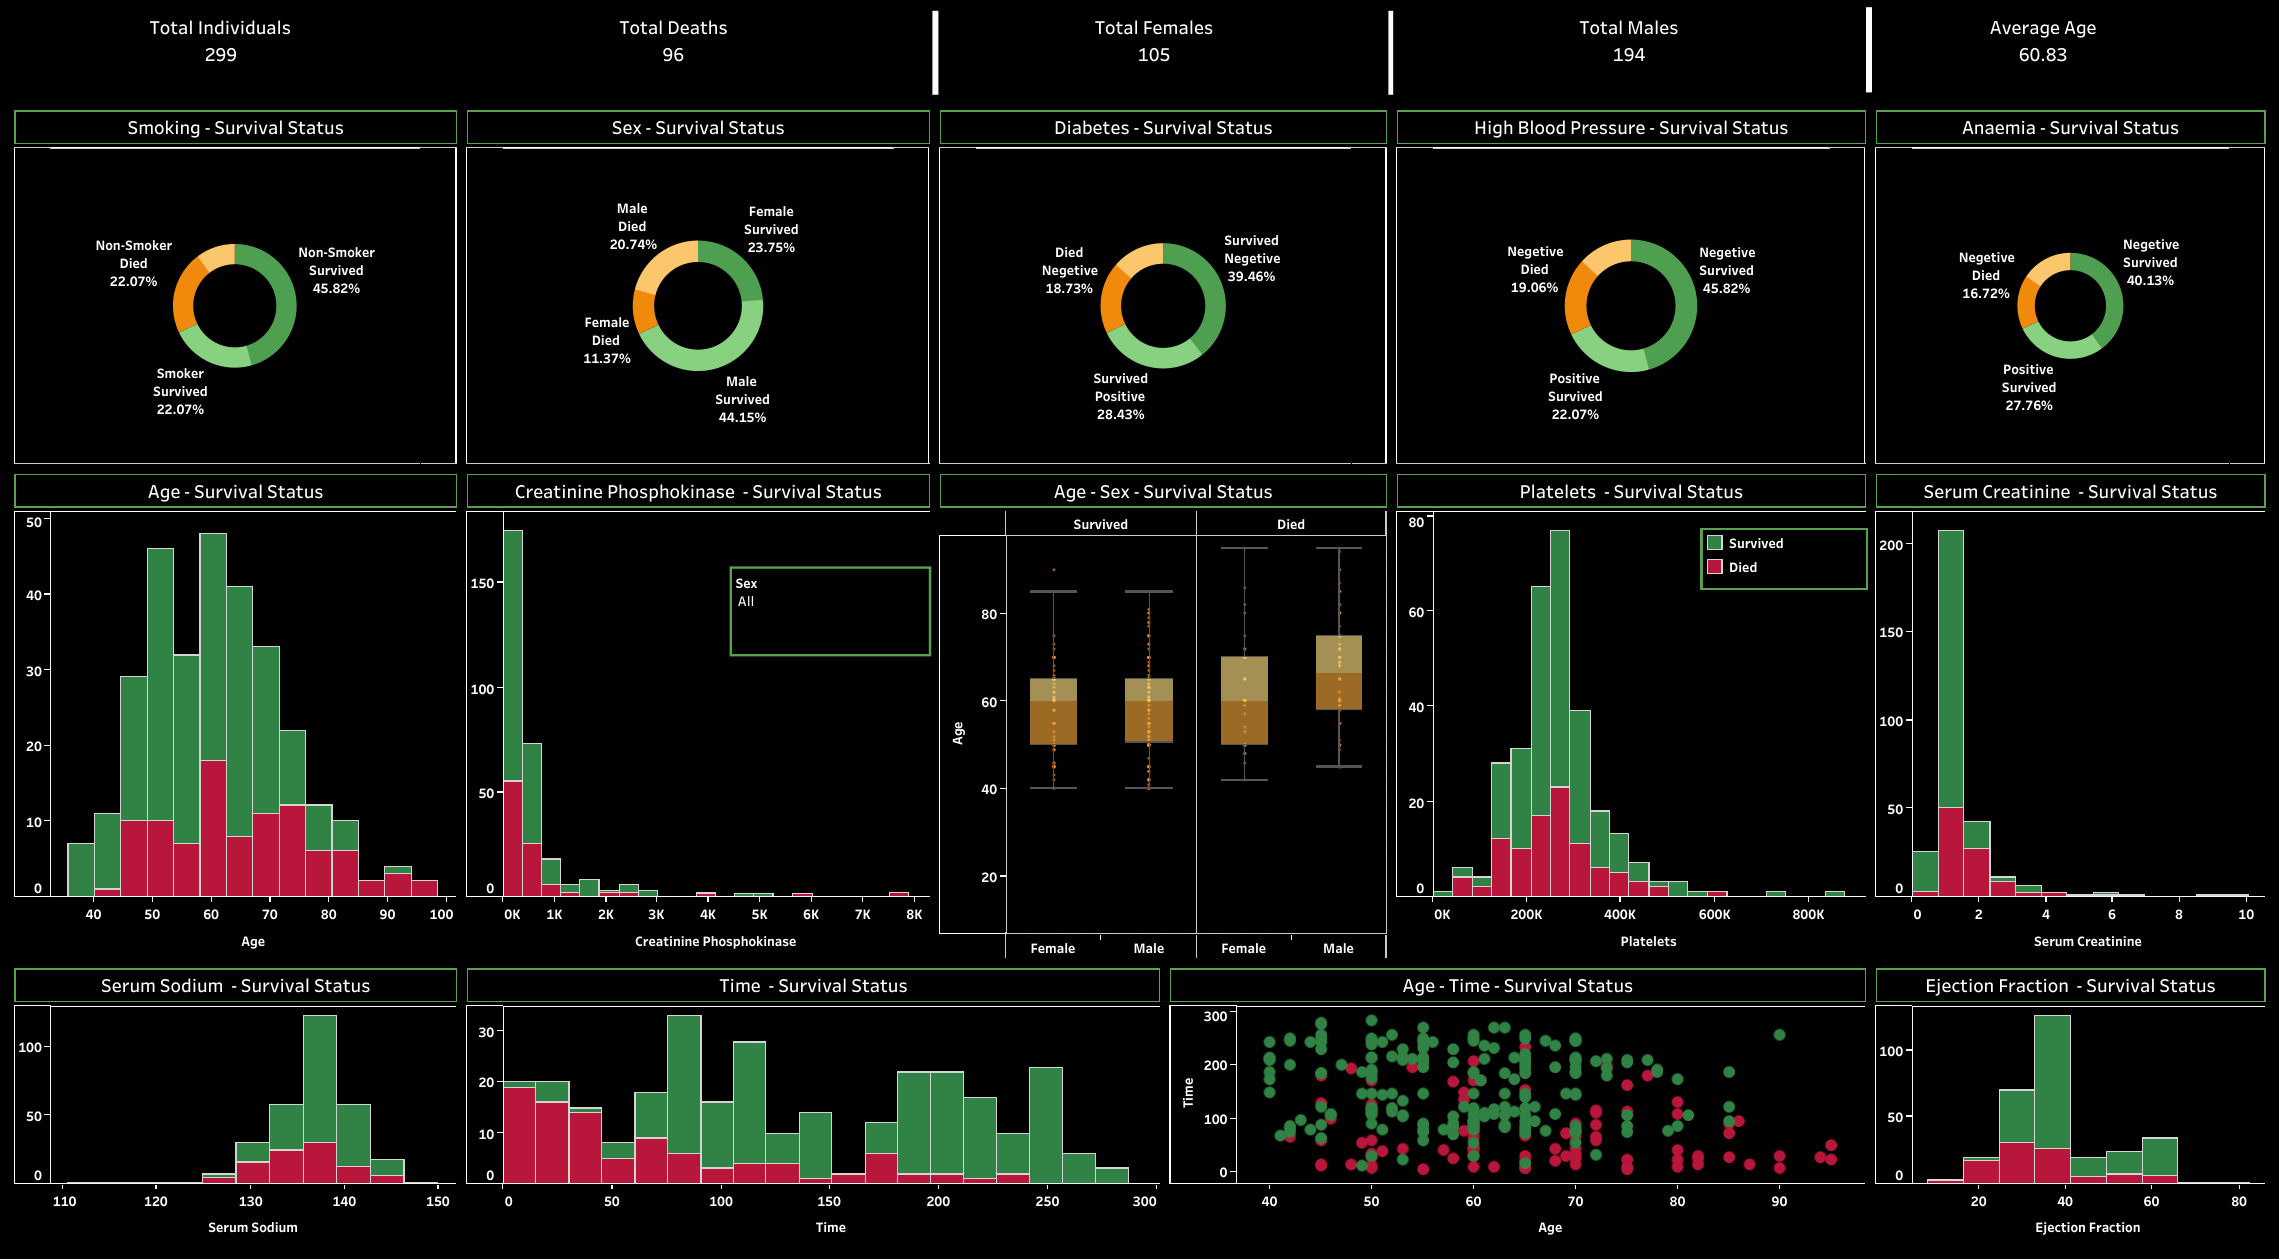

What the dashboard file says about the page in this screenshot:
{"tool":"tableau","page":{"name":"Heart-Failure Analysis","canvas":[1900,1050],"ordinal":0},"visuals":[{"type":"worksheet","title":"Total Individuals","mark":"Automatic","box":[8,8,377,80]},{"type":"worksheet","title":"Total deaths","mark":"Automatic","box":[385,8,394,80]},{"type":"worksheet","title":"Total Females","mark":"Automatic","box":[779,8,381,80]},{"type":"worksheet","title":"Total Males","mark":"Automatic","box":[1160,8,399,80]},{"type":"worksheet","title":"Average age","mark":"Automatic","box":[1559,8,333,80]},{"type":"worksheet","title":"Smoking","mark":"Pie","rows":["Calculation_145522569926819841","Calculation_145522569926819841"],"box":[8,88,376.9,303]},{"type":"worksheet","title":"Sex","mark":"Pie","rows":["Calculation_145522569926819841","Calculation_145522569926819841"],"box":[384.9,88,394,303]},{"type":"worksheet","title":"Diabetes","mark":"Pie","rows":["Calculation_145522569926819841","Calculation_145522569926819841"],"box":[779,88,381,303]},{"type":"worksheet","title":"High-Blood Pressure","mark":"Pie","rows":["Calculation_145522569926819841","Calculation_145522569926819841"],"box":[1160,88,399,303]},{"type":"worksheet","title":"Anaemia","mark":"Pie","rows":["Calculation_145522569926819841","Calculation_145522569926819841"],"box":[1559,88,333,303]},{"type":"worksheet","title":"Age","mark":"Automatic","rows":["age"],"cols":["Age (bin)"],"box":[8,391,376.9,412.5]},{"type":"worksheet","title":"Creatinine Phosphokinase ","mark":"Automatic","rows":["creatinine_phosphokinase"],"cols":["Creatinine Phosphokinase (bin)"],"box":[384.9,391,394,412.5]},{"type":"worksheet","title":"Age-Sex","mark":"Circle","rows":["age"],"cols":["DEATH_EVENT","sex"],"box":[779,391,381,412.5]},{"type":"worksheet","title":"Platelets","mark":"Automatic","rows":["platelets"],"cols":["Platelets (bin)"],"box":[1160,391,399,412.5]},{"type":"worksheet","title":"Serum Creatinine ","mark":"Automatic","rows":["serum_creatinine"],"cols":["Serum Creatinine (bin)"],"box":[1559,391,333,412.5]},{"type":"legend","title":"Age","param":"[federated.1bti6y61drgrdf19bd5a61qnmr2z].[none:DEATH_EVENT:ok]","box":[1417,440,140,52]},{"type":"filter","title":"Age-Sex","param":"[federated.1bti6y61drgrdf19bd5a61qnmr2z].[none:sex:ok]","box":[608,472,168,75]},{"type":"worksheet","title":"Serum Sodium","mark":"Automatic","rows":["serum_sodium"],"cols":["Serum Sodium (bin)"],"box":[8,803.5,376.9,238.5]},{"type":"worksheet","title":"Time","mark":"Automatic","rows":["time"],"cols":["Time (bin)"],"box":[384.9,803.5,586,238.5]},{"type":"worksheet","title":"Age-Time","mark":"Automatic","rows":["time"],"cols":["age"],"box":[971,803.5,588,238.5]},{"type":"worksheet","title":"Ejection Fraction","mark":"Automatic","rows":["ejection_fraction"],"cols":["Ejection Fraction (bin)"],"box":[1559,803.5,333,238.5]}]}

Visuals, with their boxes in screenshot pixels (x1, y1, x2, y2), scaled from the page's 1900x1050 canvas onto the 2279x1259 screenshot:
"Total Individuals" worksheet: [10, 10, 462, 106]
"Total deaths" worksheet: [462, 10, 934, 106]
"Total Females" worksheet: [934, 10, 1391, 106]
"Total Males" worksheet: [1391, 10, 1870, 106]
"Average age" worksheet: [1870, 10, 2269, 106]
"Smoking" worksheet (Pie marks): [10, 106, 462, 469]
"Sex" worksheet (Pie marks): [462, 106, 934, 469]
"Diabetes" worksheet (Pie marks): [934, 106, 1391, 469]
"High-Blood Pressure" worksheet (Pie marks): [1391, 106, 1870, 469]
"Anaemia" worksheet (Pie marks): [1870, 106, 2269, 469]
"Age" worksheet: [10, 469, 462, 963]
"Creatinine Phosphokinase " worksheet: [462, 469, 934, 963]
"Age-Sex" worksheet (Circle marks): [934, 469, 1391, 963]
"Platelets" worksheet: [1391, 469, 1870, 963]
"Serum Creatinine " worksheet: [1870, 469, 2269, 963]
"Age" legend: [1700, 528, 1868, 590]
"Age-Sex" filter: [729, 566, 931, 656]
"Serum Sodium" worksheet: [10, 963, 462, 1249]
"Time" worksheet: [462, 963, 1165, 1249]
"Age-Time" worksheet: [1165, 963, 1870, 1249]
"Ejection Fraction" worksheet: [1870, 963, 2269, 1249]
